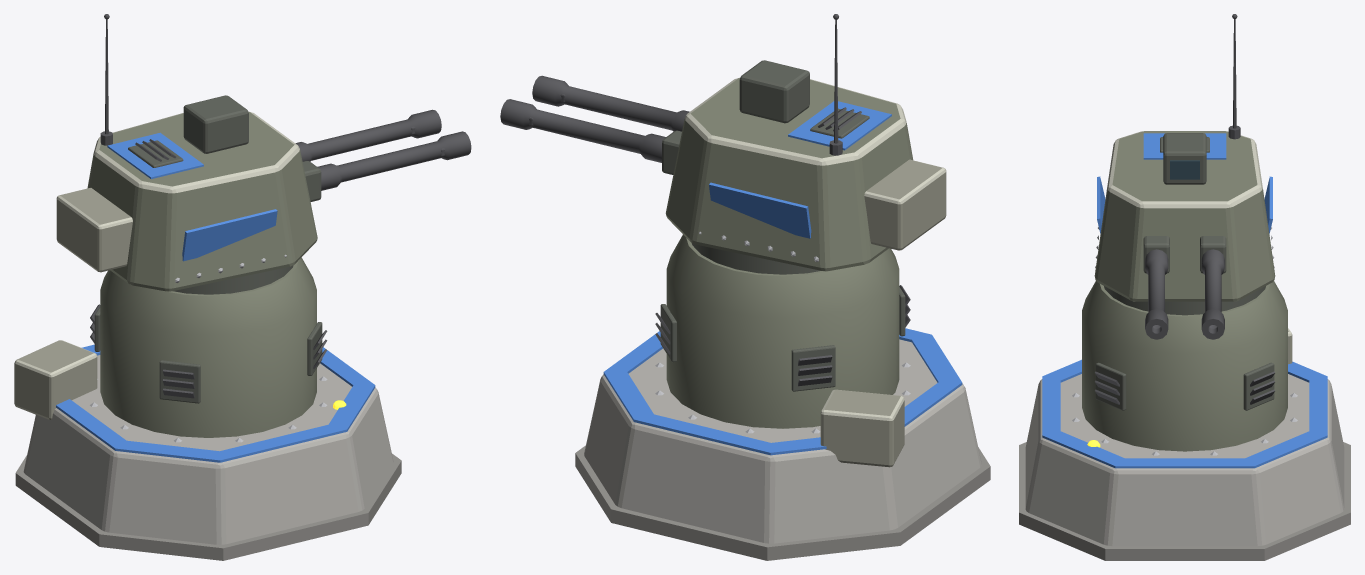
File: gun_turret_blue.glb
3 views of the same model, side by side, from view 1: azimuth 30°, elevation 25°; view 2: azimuth 150°, elevation 25°; view 3: azimuth 270°, elevation 25° (orthographic). The views are drawn at different scales.
Parts seen in each view (by area): view 1: Body, Turret, Barrel; view 2: Body, Turret, Barrel; view 3: Body, Turret, Barrel.
Part boxes in pixels (x1,y1,x2,y2): Body: (14, 257, 401, 560); Turret: (56, 14, 321, 294); Barrel: (295, 109, 471, 190); Body: (575, 235, 990, 560); Turret: (662, 14, 946, 274); Barrel: (500, 75, 689, 162); Body: (1019, 281, 1350, 560); Turret: (1094, 14, 1275, 315); Barrel: (1145, 249, 1224, 339).
Size of the model in its own units: 2.6 by 2.94 by 2.
Materials: 1 (1 with a texture image).
